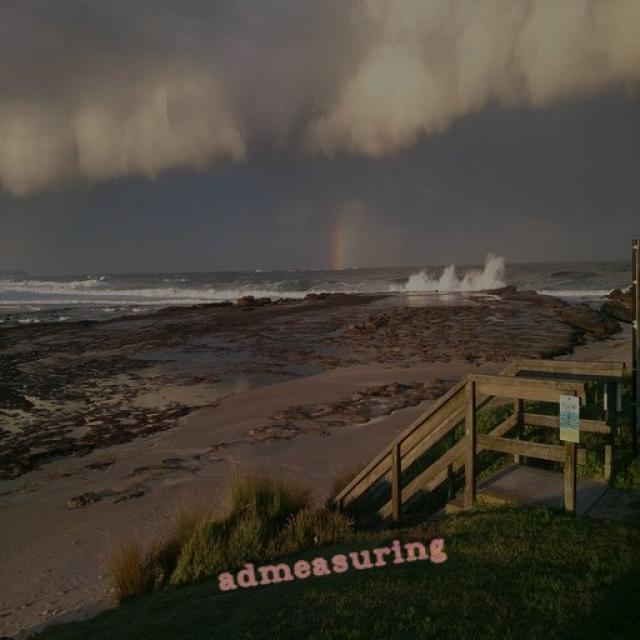watermark: (211, 530, 448, 594)
